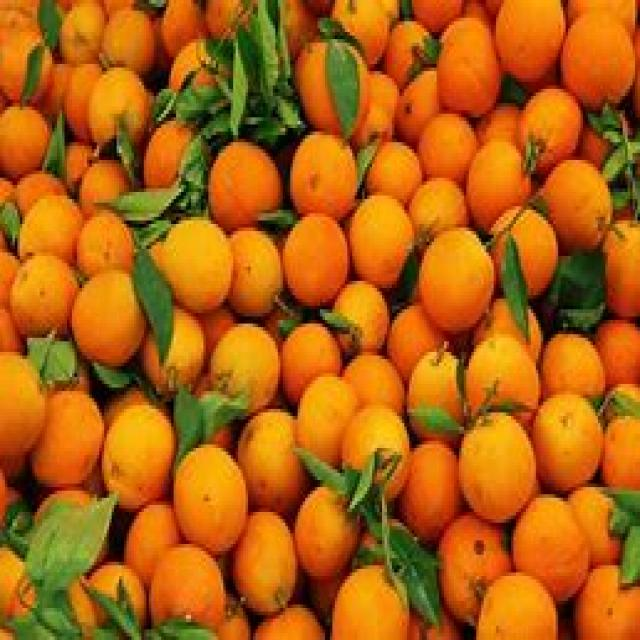Orange: (419, 227, 496, 331), (460, 412, 535, 516), (175, 448, 248, 549), (74, 263, 144, 364), (104, 404, 171, 506), (342, 401, 413, 491), (518, 496, 590, 584), (42, 390, 106, 488), (546, 160, 614, 251), (564, 13, 636, 98), (284, 208, 347, 304), (163, 219, 229, 309), (238, 507, 294, 609), (475, 570, 558, 638), (352, 192, 412, 286), (210, 143, 278, 224), (468, 334, 539, 411), (332, 565, 404, 640), (11, 256, 72, 344), (437, 24, 495, 116), (291, 131, 355, 212), (297, 487, 356, 571), (217, 323, 278, 404), (496, 0, 559, 77), (516, 86, 586, 154), (467, 142, 532, 214), (294, 375, 348, 460), (90, 70, 146, 140), (334, 286, 392, 353), (23, 196, 80, 257), (366, 138, 420, 202), (286, 322, 338, 383), (106, 9, 152, 71)
